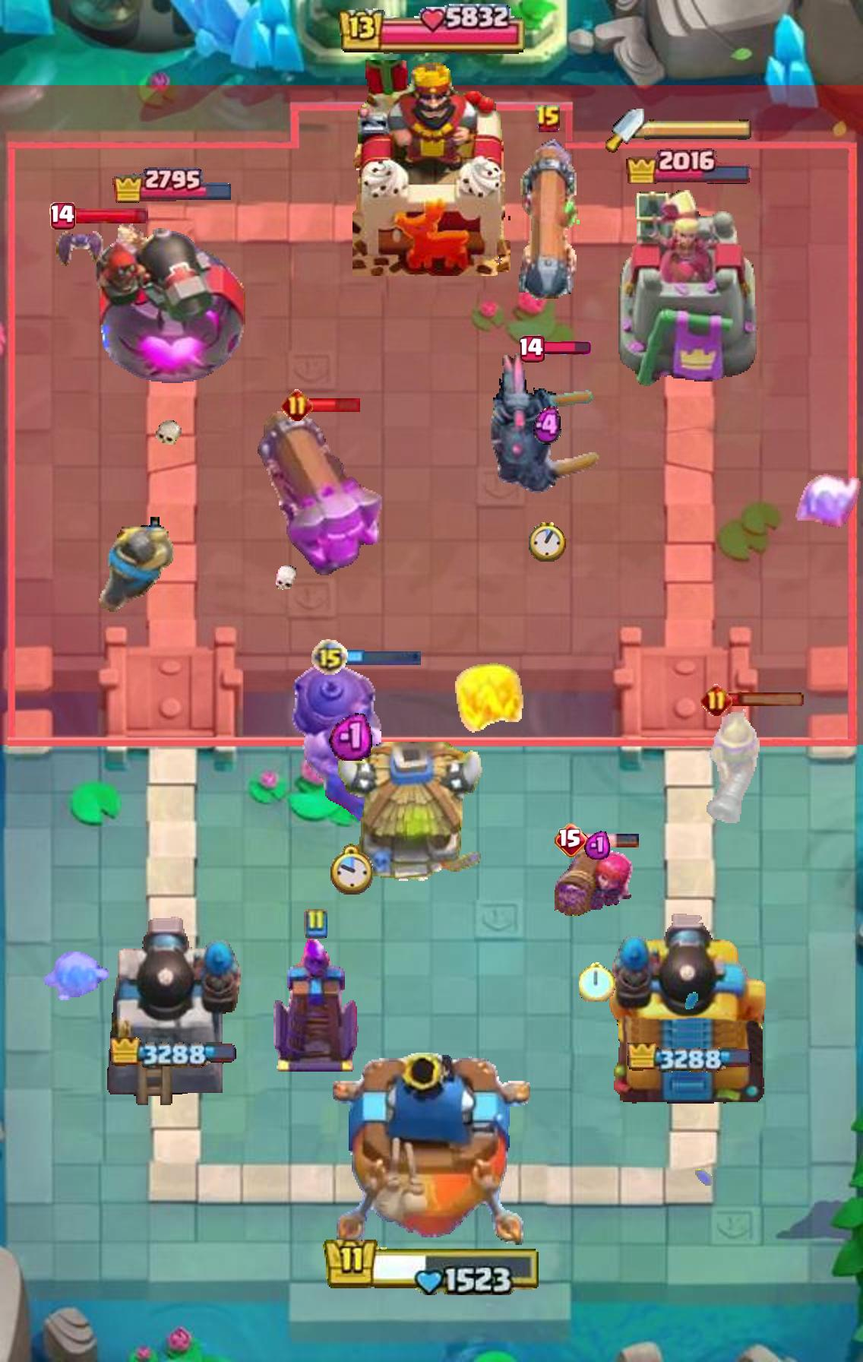bar: (71, 206, 149, 226), (729, 692, 808, 708), (309, 396, 362, 414), (585, 833, 640, 848), (541, 341, 591, 355)
bar-level: (554, 823, 588, 858), (281, 389, 313, 421), (700, 684, 732, 716), (535, 104, 562, 135), (49, 202, 76, 230), (519, 334, 545, 362)
